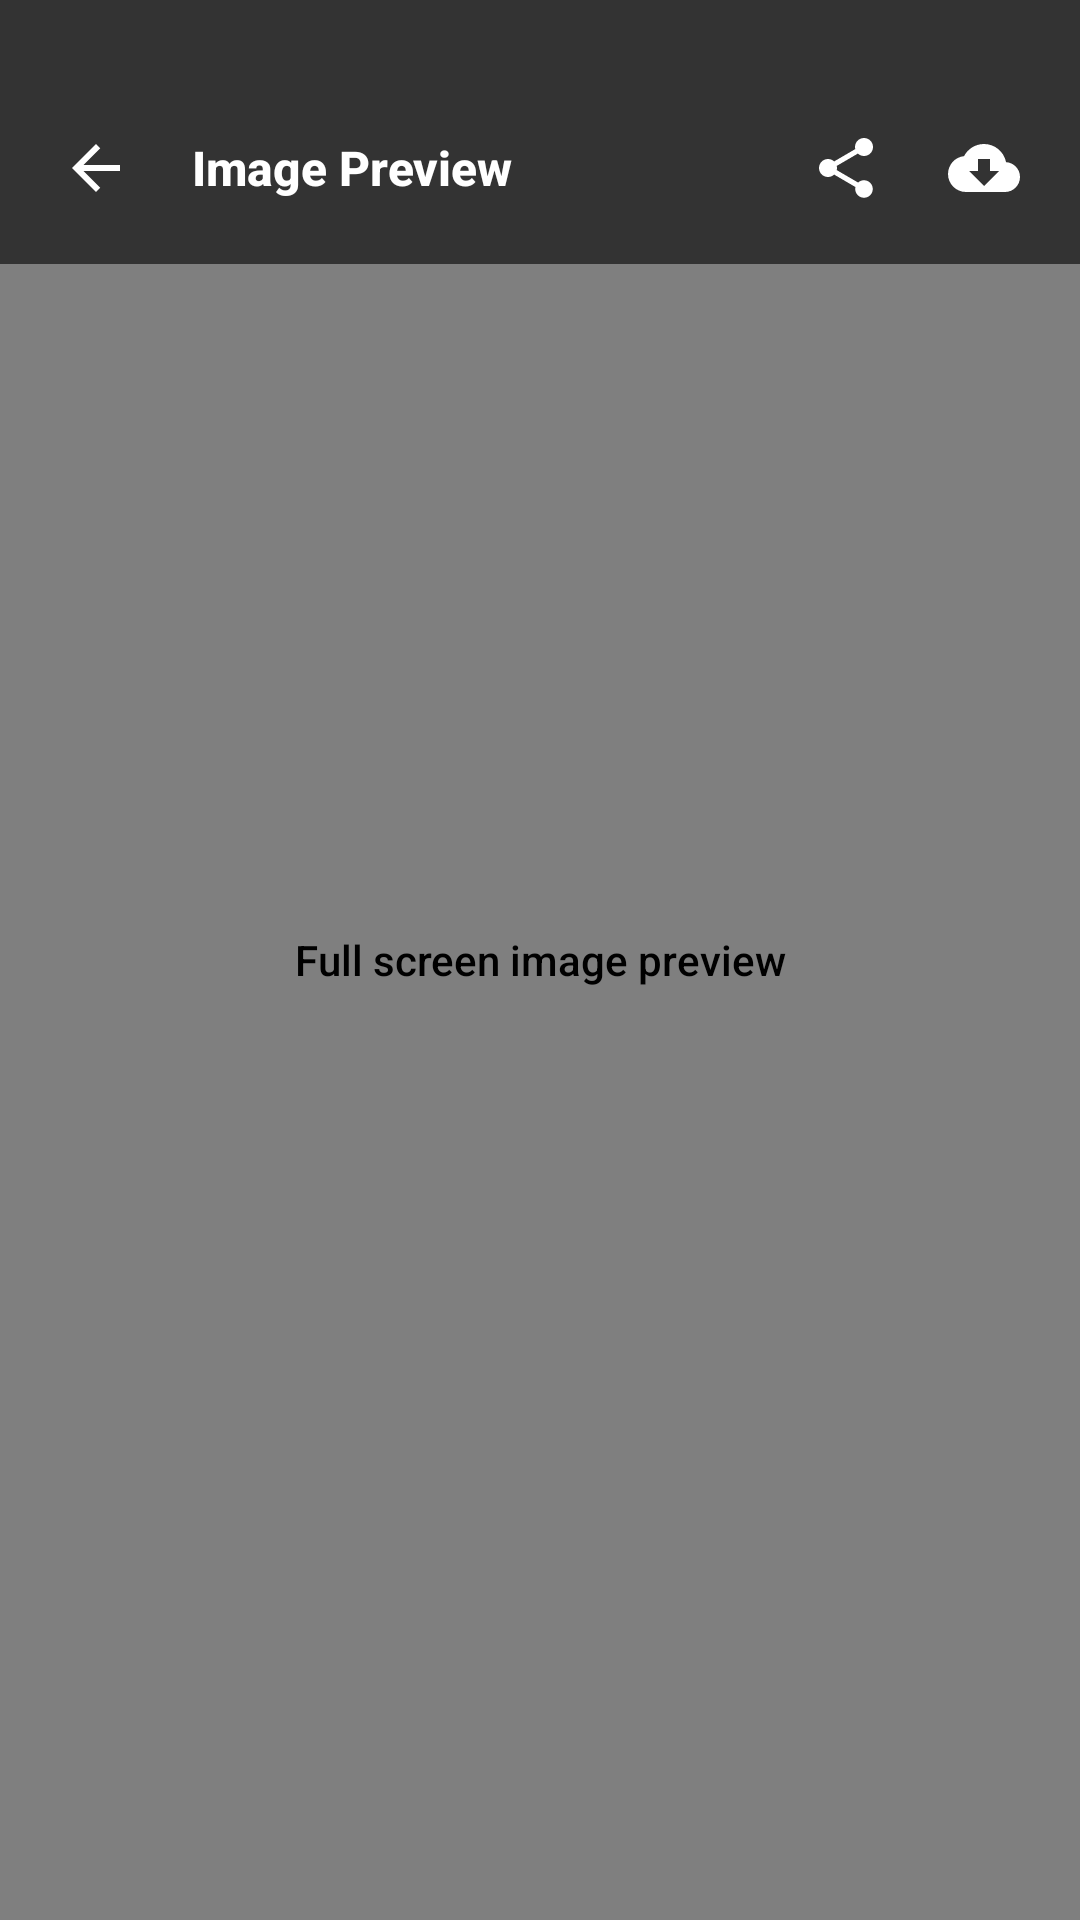

Point at icon controls on the screen. Image size 1080w x 1920h, points as [x,y].
Back: [96,168]
Save image: [984,168]
Share image: [846,168]
